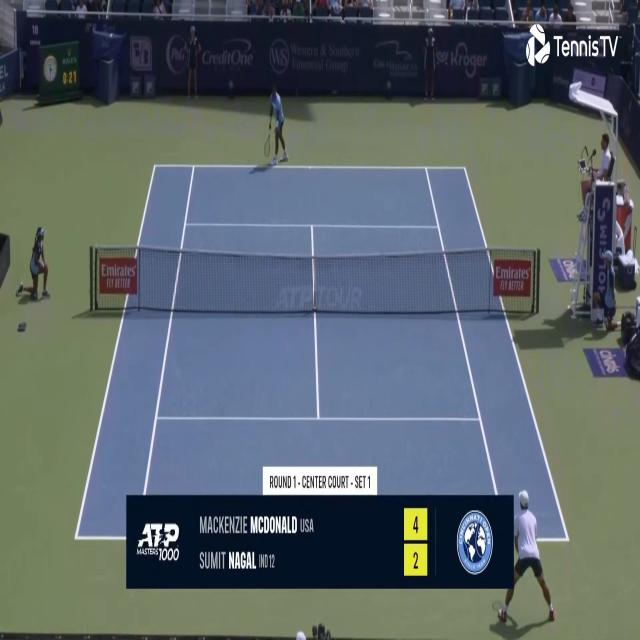tennis-player: (493, 486, 561, 633), (263, 78, 291, 166)
